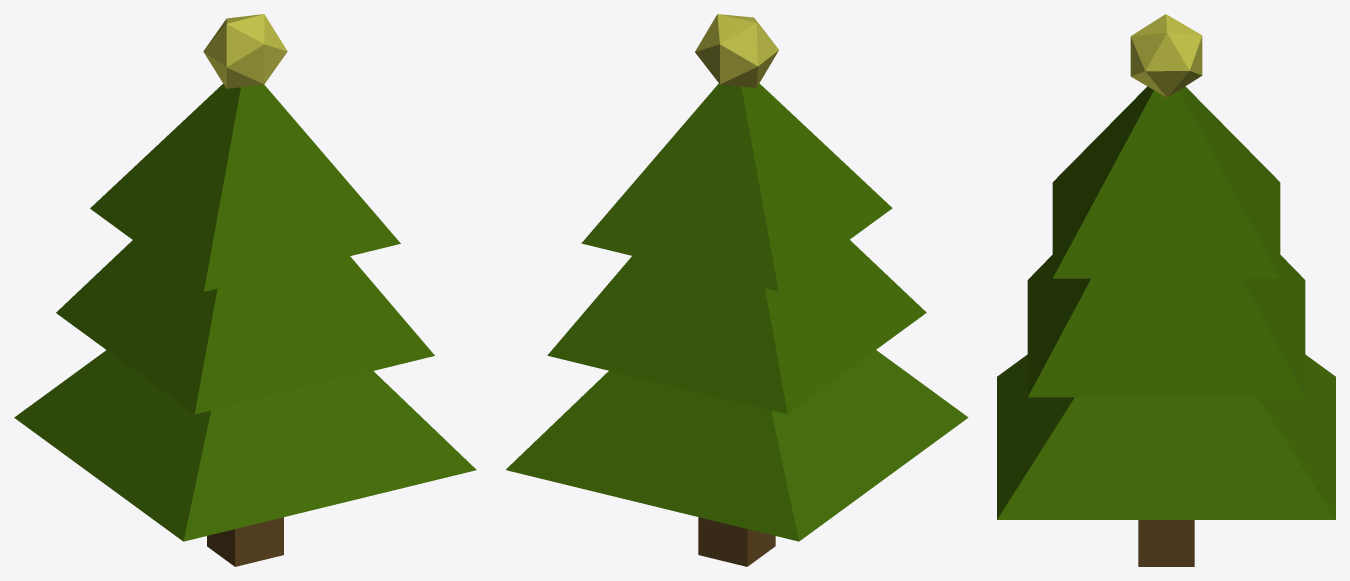
File: 044 Xmas_Tree.fbx
The picture shows the model from 3 angles, left to right: view 1: azimuth 30°, elevation 25°; view 2: azimuth 150°, elevation 25°; view 3: azimuth 270°, elevation 25°; orthographic projection.
Visible parts, largest first — view 1: Lowpoly_Christmas_Pack_044:pCube2; view 2: Lowpoly_Christmas_Pack_044:pCube2; view 3: Lowpoly_Christmas_Pack_044:pCube2.
Boxes of the visible parts, x1,y1,x2,y2 form: Lowpoly_Christmas_Pack_044:pCube2: (14,14,476,566); Lowpoly_Christmas_Pack_044:pCube2: (506,14,968,566); Lowpoly_Christmas_Pack_044:pCube2: (997,14,1335,566).
Bounding box in the file's own units: 1 × 1.73 × 1.
